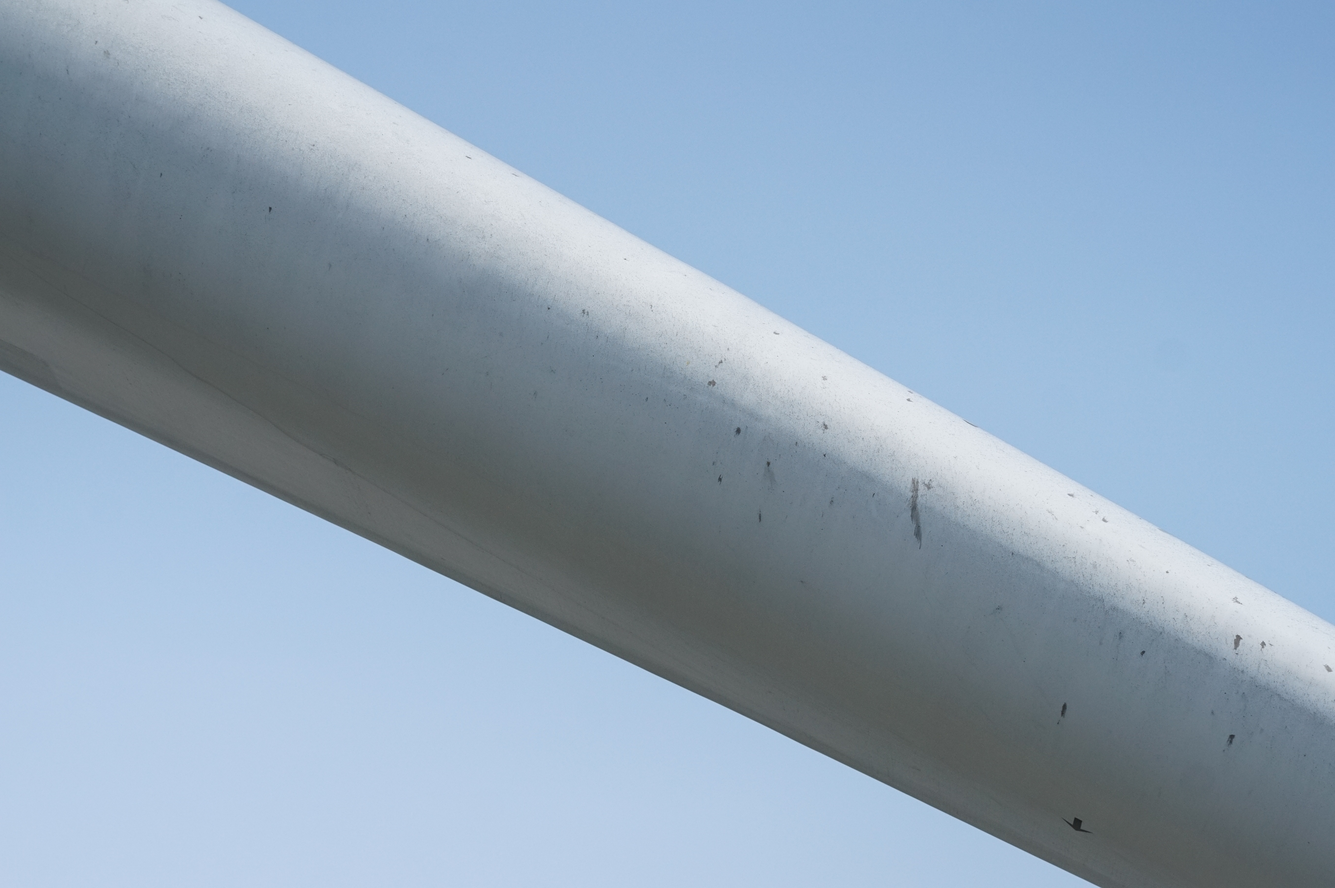Dirt: (1224, 730, 1238, 750), (1232, 633, 1245, 652), (1060, 701, 1068, 718)
